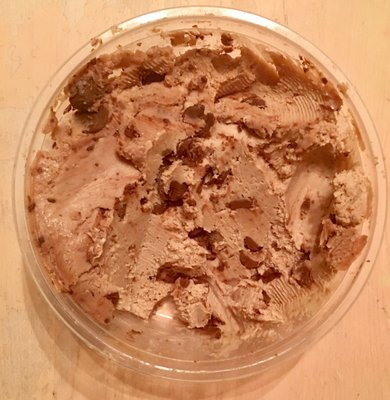sushi: (8, 51, 384, 398)
